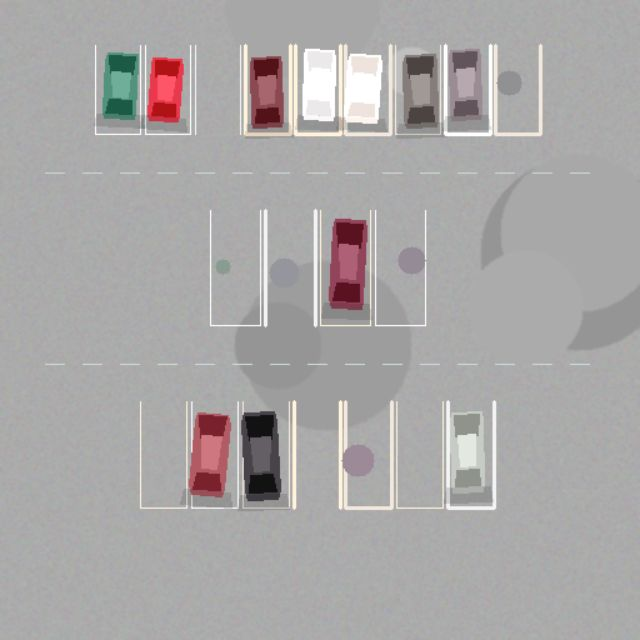space-empty: (210, 210, 260, 325), (265, 210, 315, 325), (375, 210, 425, 325), (140, 401, 186, 508), (294, 401, 340, 508), (345, 401, 391, 508), (396, 401, 442, 508), (195, 45, 240, 134), (495, 45, 540, 134)
space-occupied: (320, 210, 370, 325), (191, 401, 238, 508), (242, 401, 289, 508), (448, 401, 494, 508), (95, 45, 140, 134), (145, 45, 190, 134), (245, 45, 290, 134), (295, 45, 340, 134), (345, 45, 390, 134), (395, 45, 440, 134), (445, 45, 490, 134)
